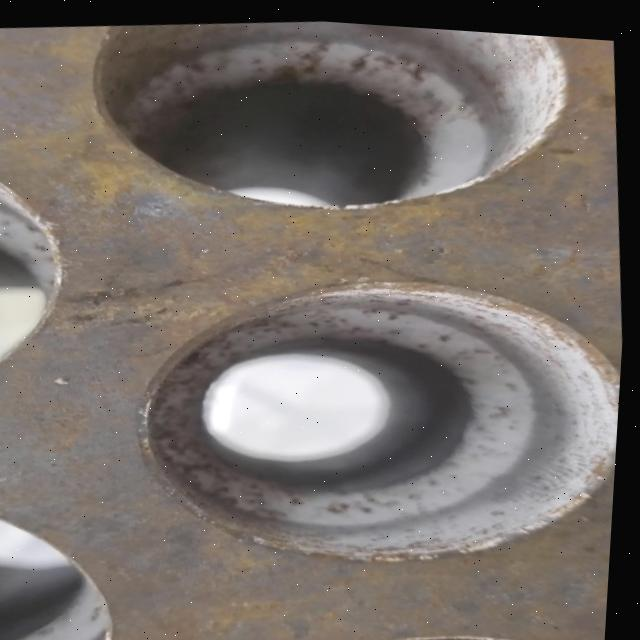Hole: (118, 241, 629, 589), (75, 4, 585, 238)
